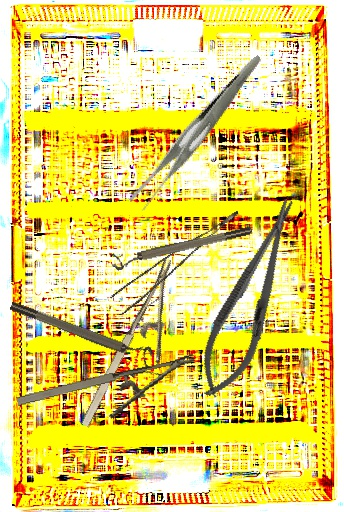Dressing Forceps: (100, 55, 296, 214)
Fixation Ring: (8, 292, 155, 369), (109, 224, 255, 272)
Needle Holder: (187, 191, 314, 406), (75, 257, 206, 443), (15, 353, 203, 437)
Tissue Forceps: (105, 210, 253, 316)
